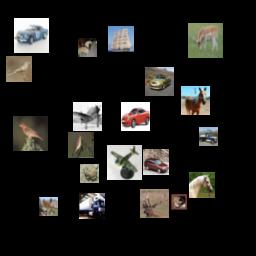airplane: (107, 145, 142, 180), (73, 102, 102, 131)
automobile: (14, 18, 49, 53), (145, 67, 174, 96), (121, 102, 150, 131), (143, 149, 169, 175)
bird: (13, 116, 48, 151), (68, 132, 94, 158), (6, 56, 32, 82)
cat: (171, 194, 187, 210)
deer: (188, 23, 223, 58), (140, 189, 169, 218)
dog: (78, 38, 97, 57)
frog: (80, 164, 99, 183)
ship: (108, 26, 134, 52)
truck: (79, 193, 105, 219), (199, 127, 218, 146)
